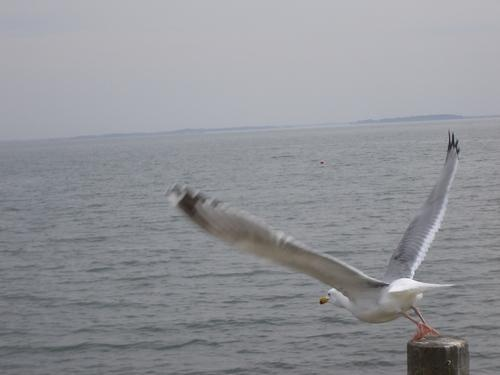bird: (164, 130, 474, 342)
